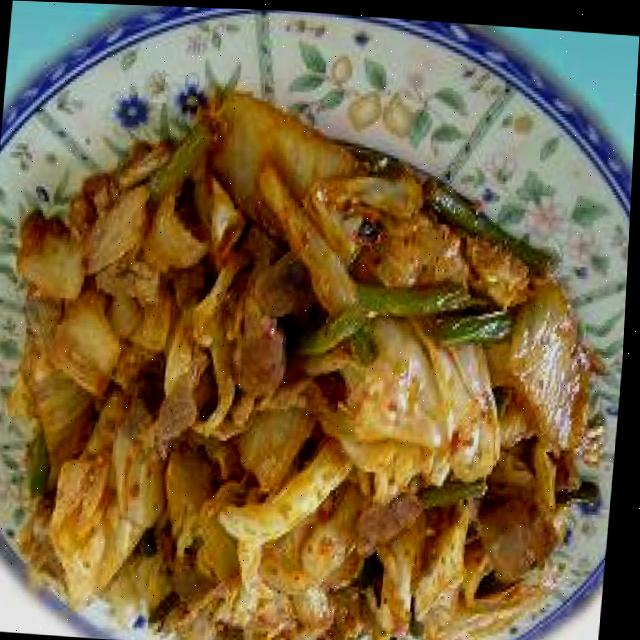蔬菜料理: (0, 106, 614, 640)
